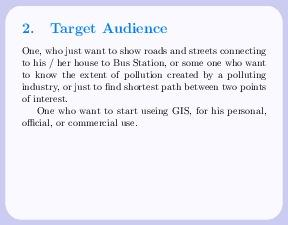paragraph: (19, 43, 276, 133)
title: (50, 18, 173, 39)
